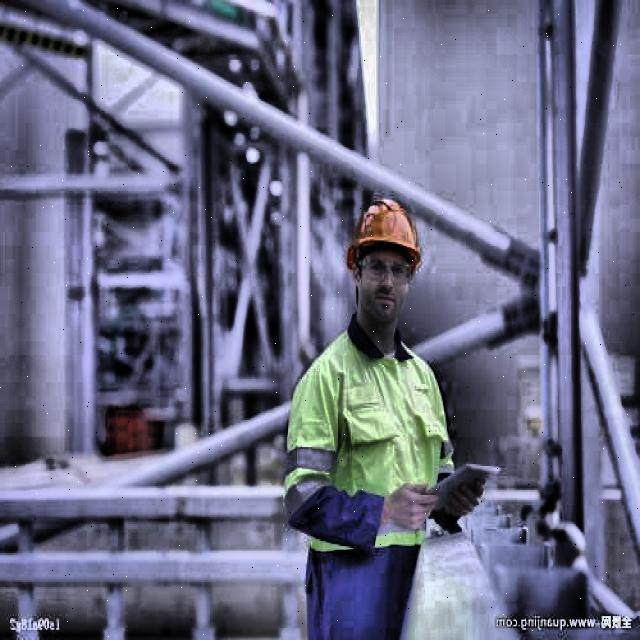helmet: (340, 186, 430, 340)
